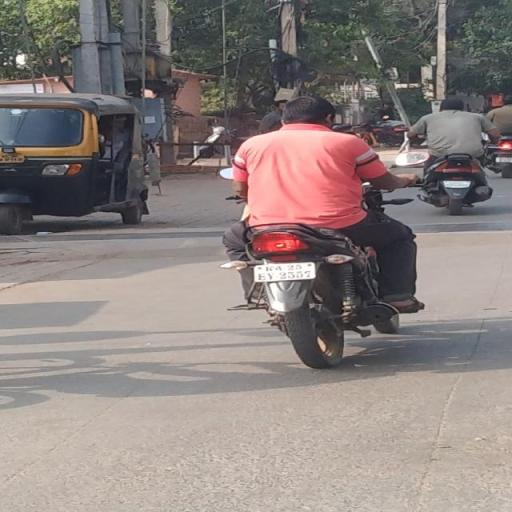bike: (216, 93, 433, 370)
numberplate: (253, 264, 316, 282)
withouthelmet: (285, 97, 334, 127)
